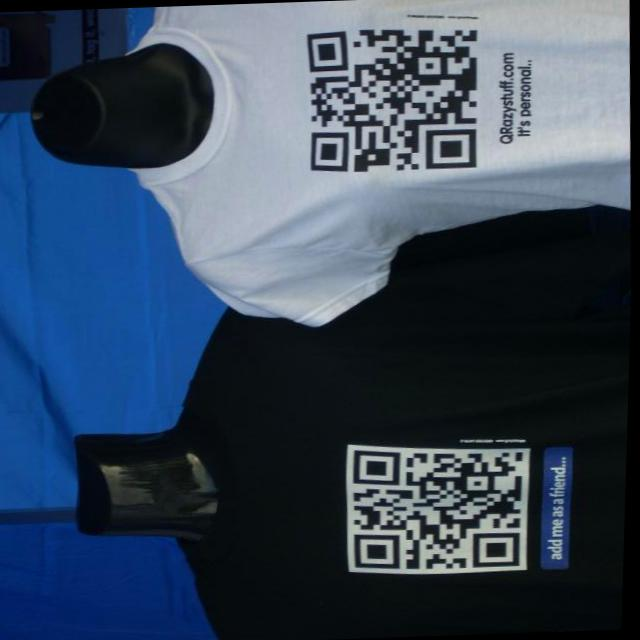qrcode: (304, 26, 483, 173), (353, 444, 530, 571)
